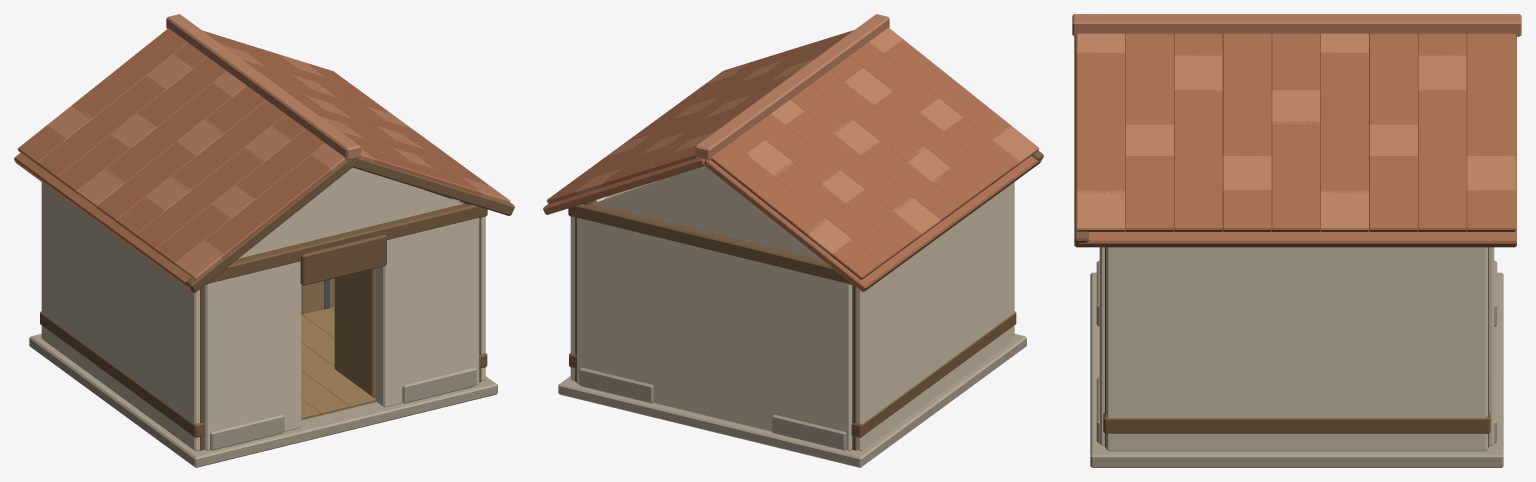
Rendered from frontier_hut.glb.
The picture shows the model from 3 angles, left to right: view 1: azimuth 30°, elevation 25°; view 2: azimuth 150°, elevation 25°; view 3: azimuth 270°, elevation 25°; orthographic projection. The views are drawn at different scales.
Visible parts, largest first — view 1: Lime_and_earth_plaster, Terracotta_roof, Weathered_terracotta, Dark_structural_oak, Local_warm_limestone, Worn_wood; view 2: Lime_and_earth_plaster, Terracotta_roof, Weathered_terracotta, Local_warm_limestone, Dark_structural_oak; view 3: Terracotta_roof, Lime_and_earth_plaster, Weathered_terracotta, Local_warm_limestone, Dark_structural_oak.
Part boxes in pixels (x1,y1,x2,y2): Lime_and_earth_plaster: (41, 167, 485, 450); Terracotta_roof: (14, 28, 489, 291); Weathered_terracotta: (46, 14, 510, 280); Dark_structural_oak: (40, 157, 514, 450); Local_warm_limestone: (29, 334, 497, 467); Worn_wood: (301, 268, 375, 419); Lime_and_earth_plaster: (570, 166, 1014, 450); Terracotta_roof: (543, 30, 1041, 291); Weathered_terracotta: (574, 14, 1039, 255); Local_warm_limestone: (558, 334, 1026, 467); Dark_structural_oak: (568, 150, 1043, 450); Terracotta_roof: (1076, 33, 1516, 247); Lime_and_earth_plaster: (1099, 247, 1494, 451); Weathered_terracotta: (1072, 14, 1521, 231); Local_warm_limestone: (1090, 260, 1503, 467); Dark_structural_oak: (1074, 36, 1490, 447).
Size of the model in its own units: 4.39 by 3.74 by 4.24.
